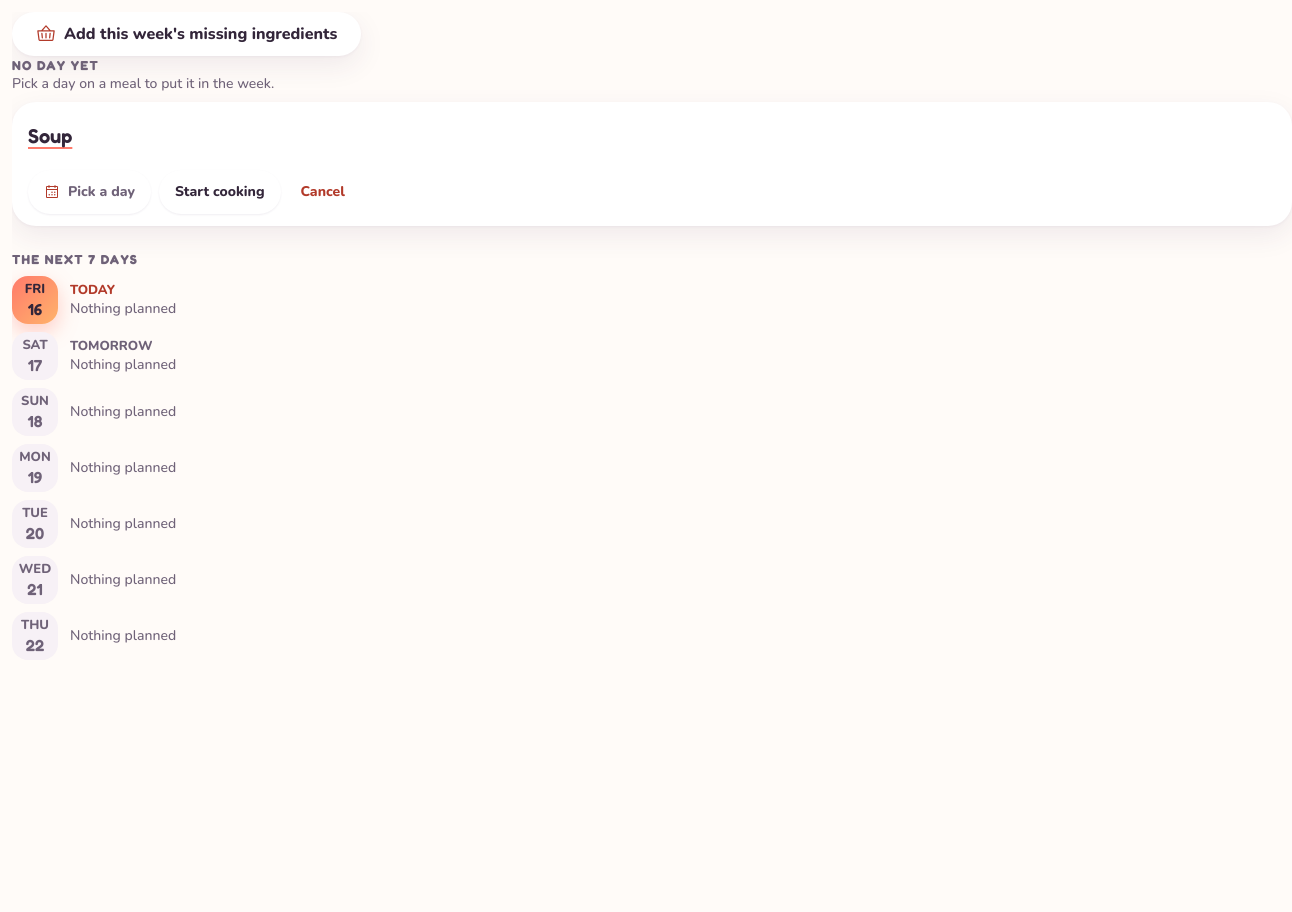
Test: day control › setting a day moves the meal into the week, with the receipt (day by locale) and Undo, focus on it
Click the button with aria-label "Pick a day for Soup".
click(89, 192)  # box [28,170,151,214]
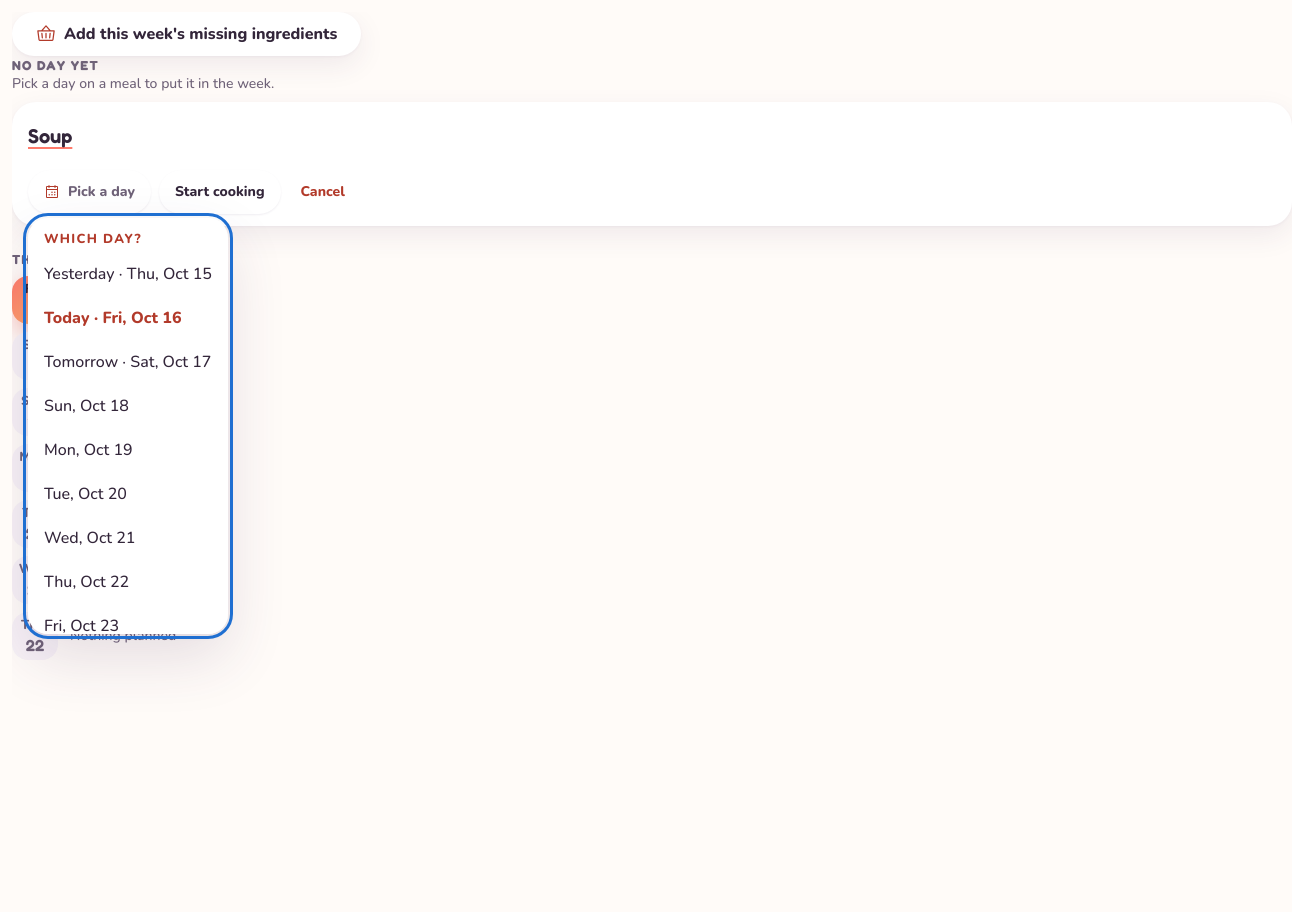
Click the menu item "Tomorrow · Sat, Oct 17".
click(128, 362)  # box [44,351,212,373]
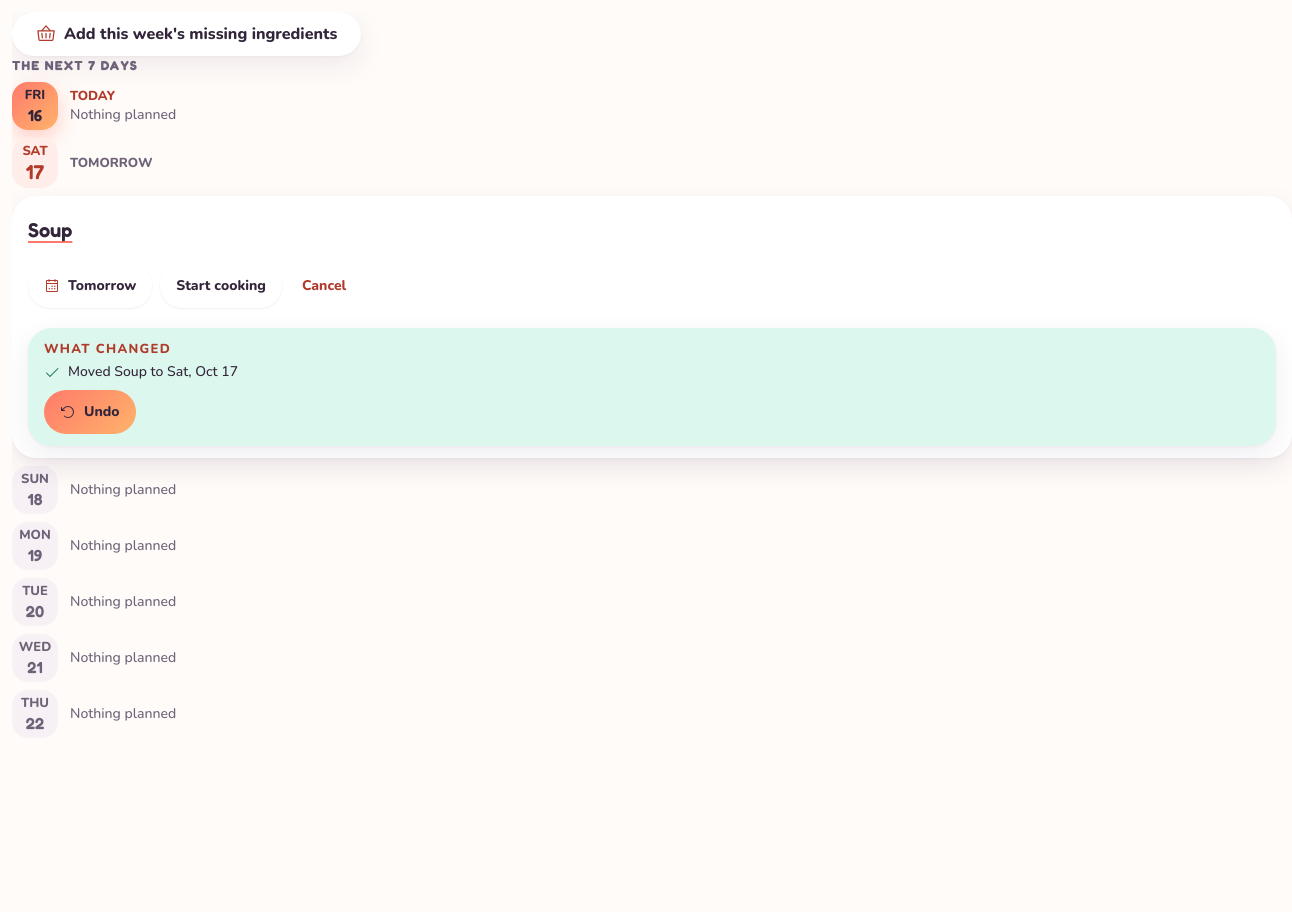
Expected: the button with aria-label "Soup: open recipe" is shown, [28,208,72,252]
Expected: the heading "No day yet" is gone
Expected: the element "What changed" shows "Moved Soup to Sat, Oct 17", [68,362,238,381]
Click the button "Undo".
click(90, 412)  # box [44,390,136,434]
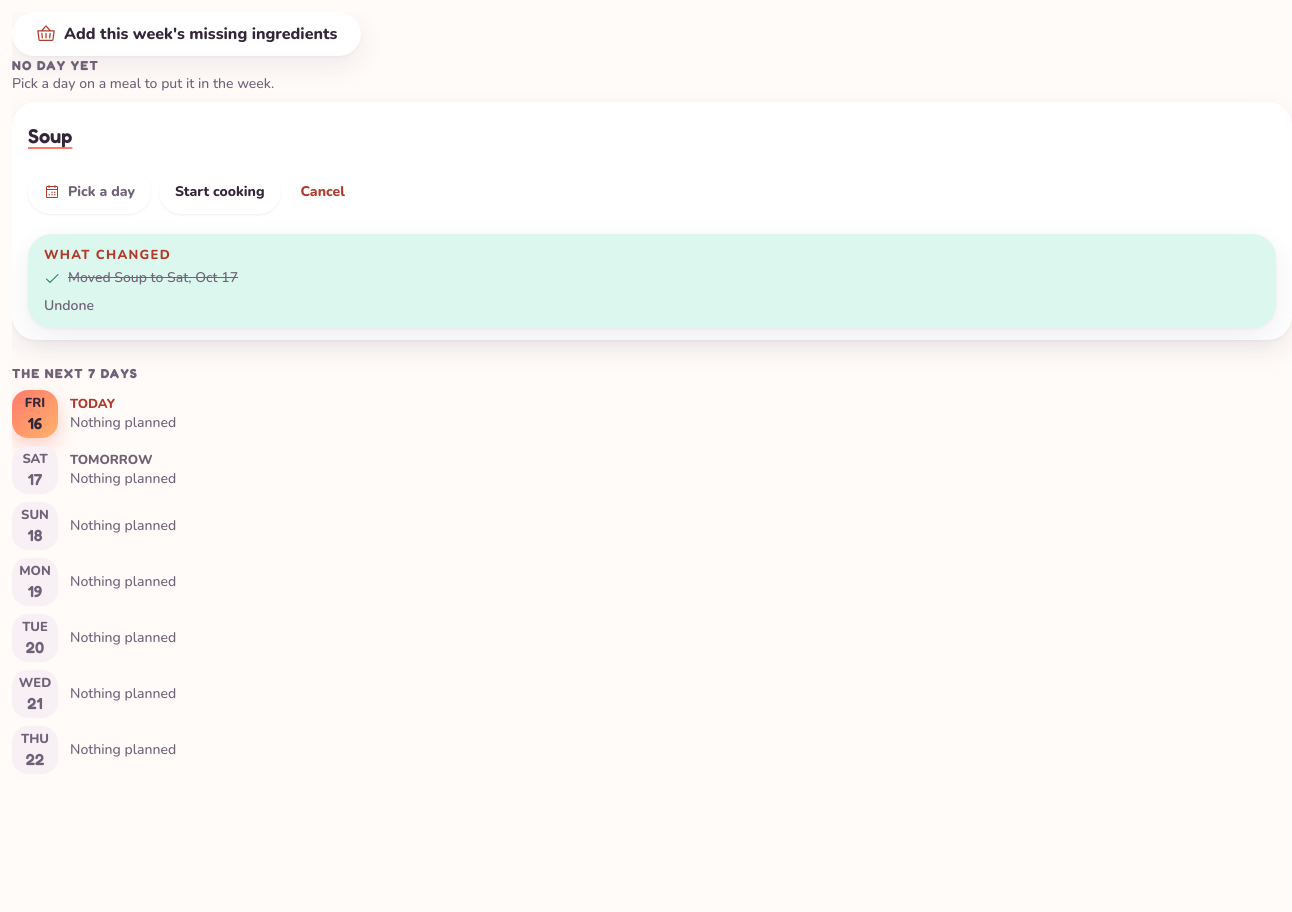
Expected: the element "No day yet" shows "Soup", [28,114,72,158]
